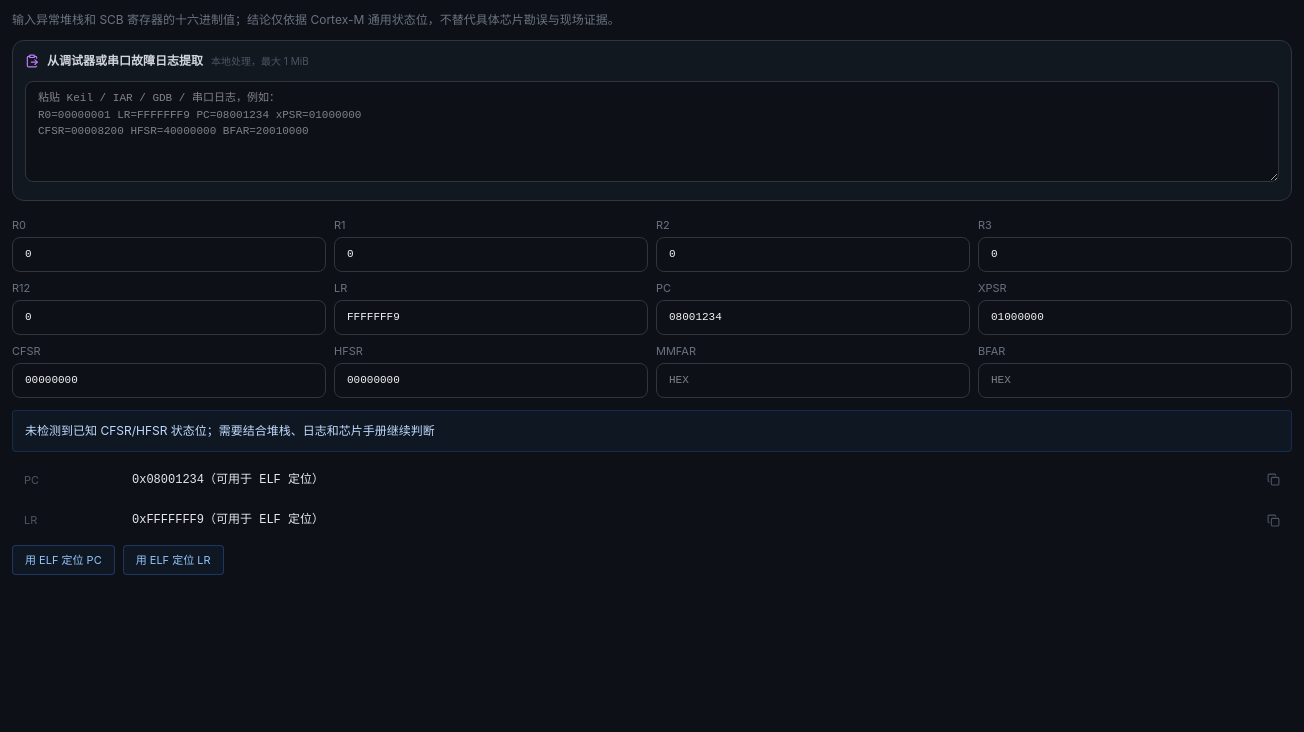
Test: HardFaultTool real-log workflow › rejects prose without register evidence instead of guessing
Replace the text in the text box named "HardFault 原始日志" with "device rebooted after an unknown panic". click: [652, 131]
box: [25,81,1279,182]
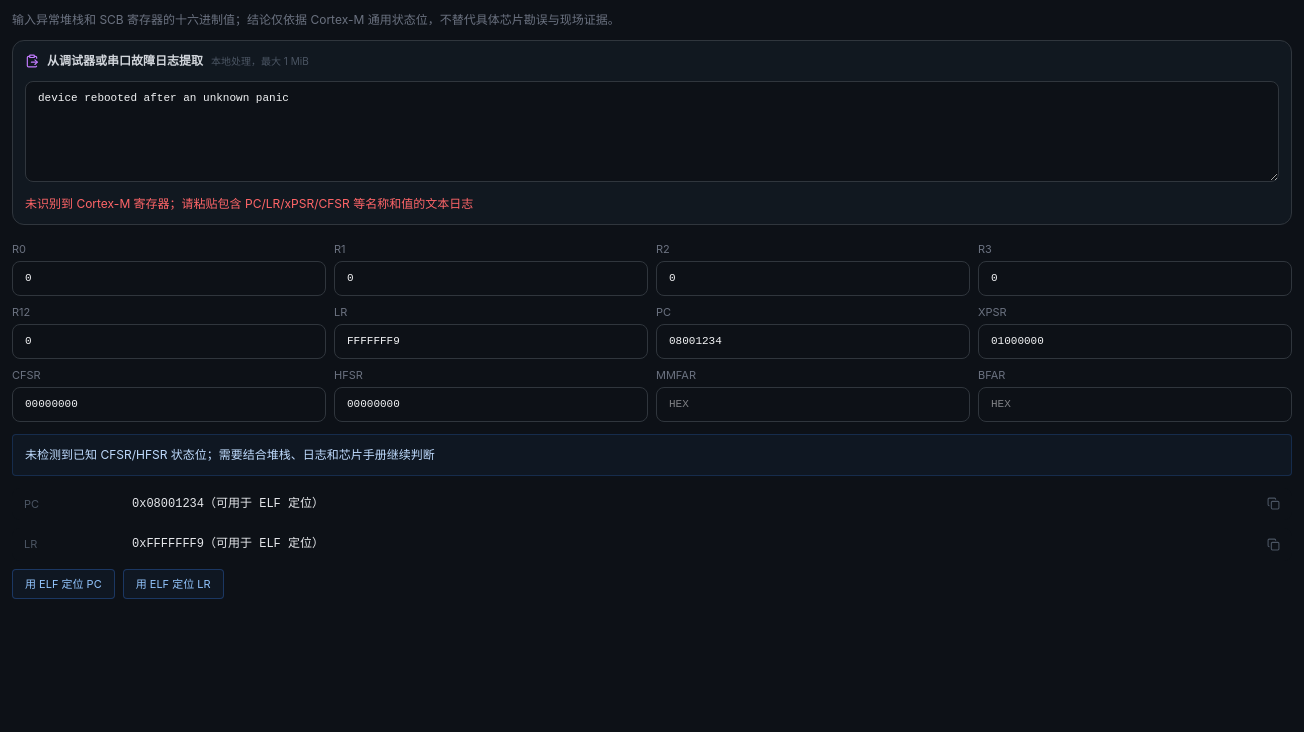
Expected: the message shows "未识别到 Cortex-M 寄存器", [25,196,473,210]
